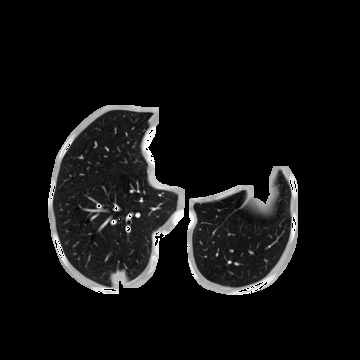PN: (109, 268, 129, 288)
